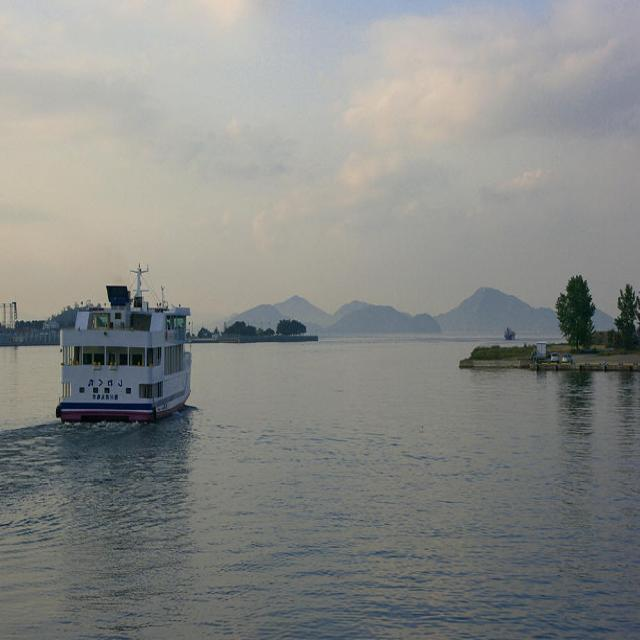passenger ship: (57, 273, 210, 422)
